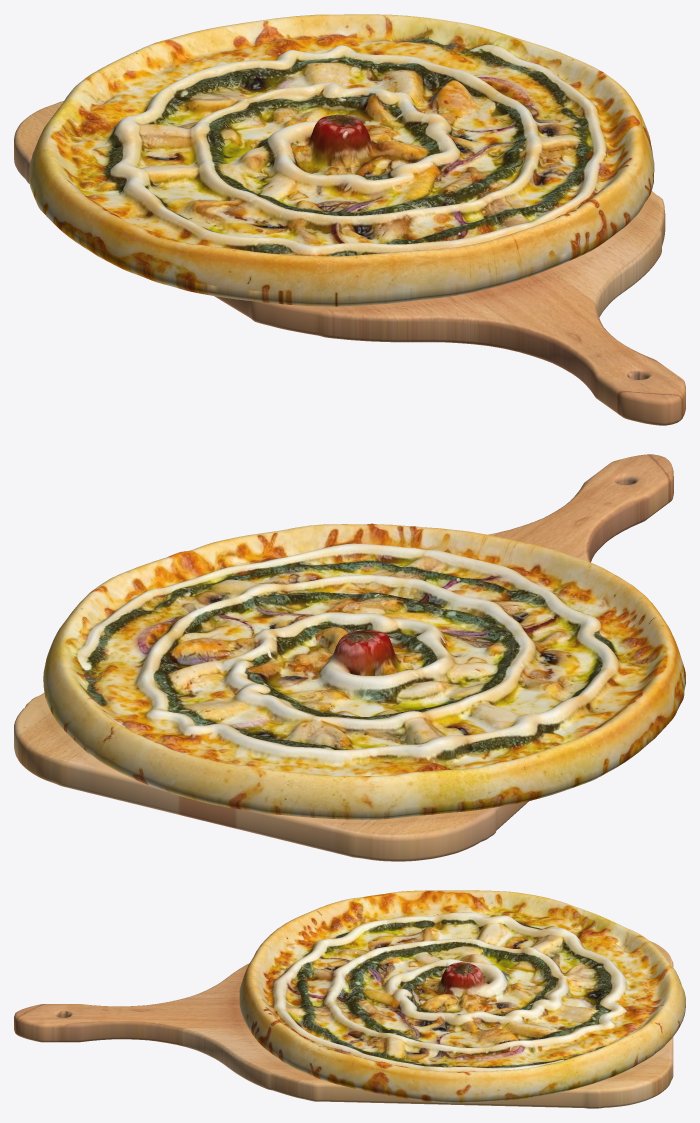
The model's file is pizza-ceaser.glb.
3 views of the same model, one above another, from view 1: azimuth 30°, elevation 25°; view 2: azimuth 150°, elevation 25°; view 3: azimuth 270°, elevation 25° (orthographic). The views are drawn at different scales.
Visible parts, largest first — view 1: pizza-ceaser, peel.004; view 2: pizza-ceaser, peel.004; view 3: pizza-ceaser, peel.004.
Part boxes in pixels (x1,y1,x2,y2): pizza-ceaser: (29,14,654,306); peel.004: (14,101,685,425); pizza-ceaser: (43,523,685,819); peel.004: (14,454,673,861); pizza-ceaser: (239,890,685,1103); peel.004: (14,941,673,1108).
Size of the model in its own units: 0.3041 by 0.0442 by 0.4486.
Materials: 2 (2 with a texture image).
